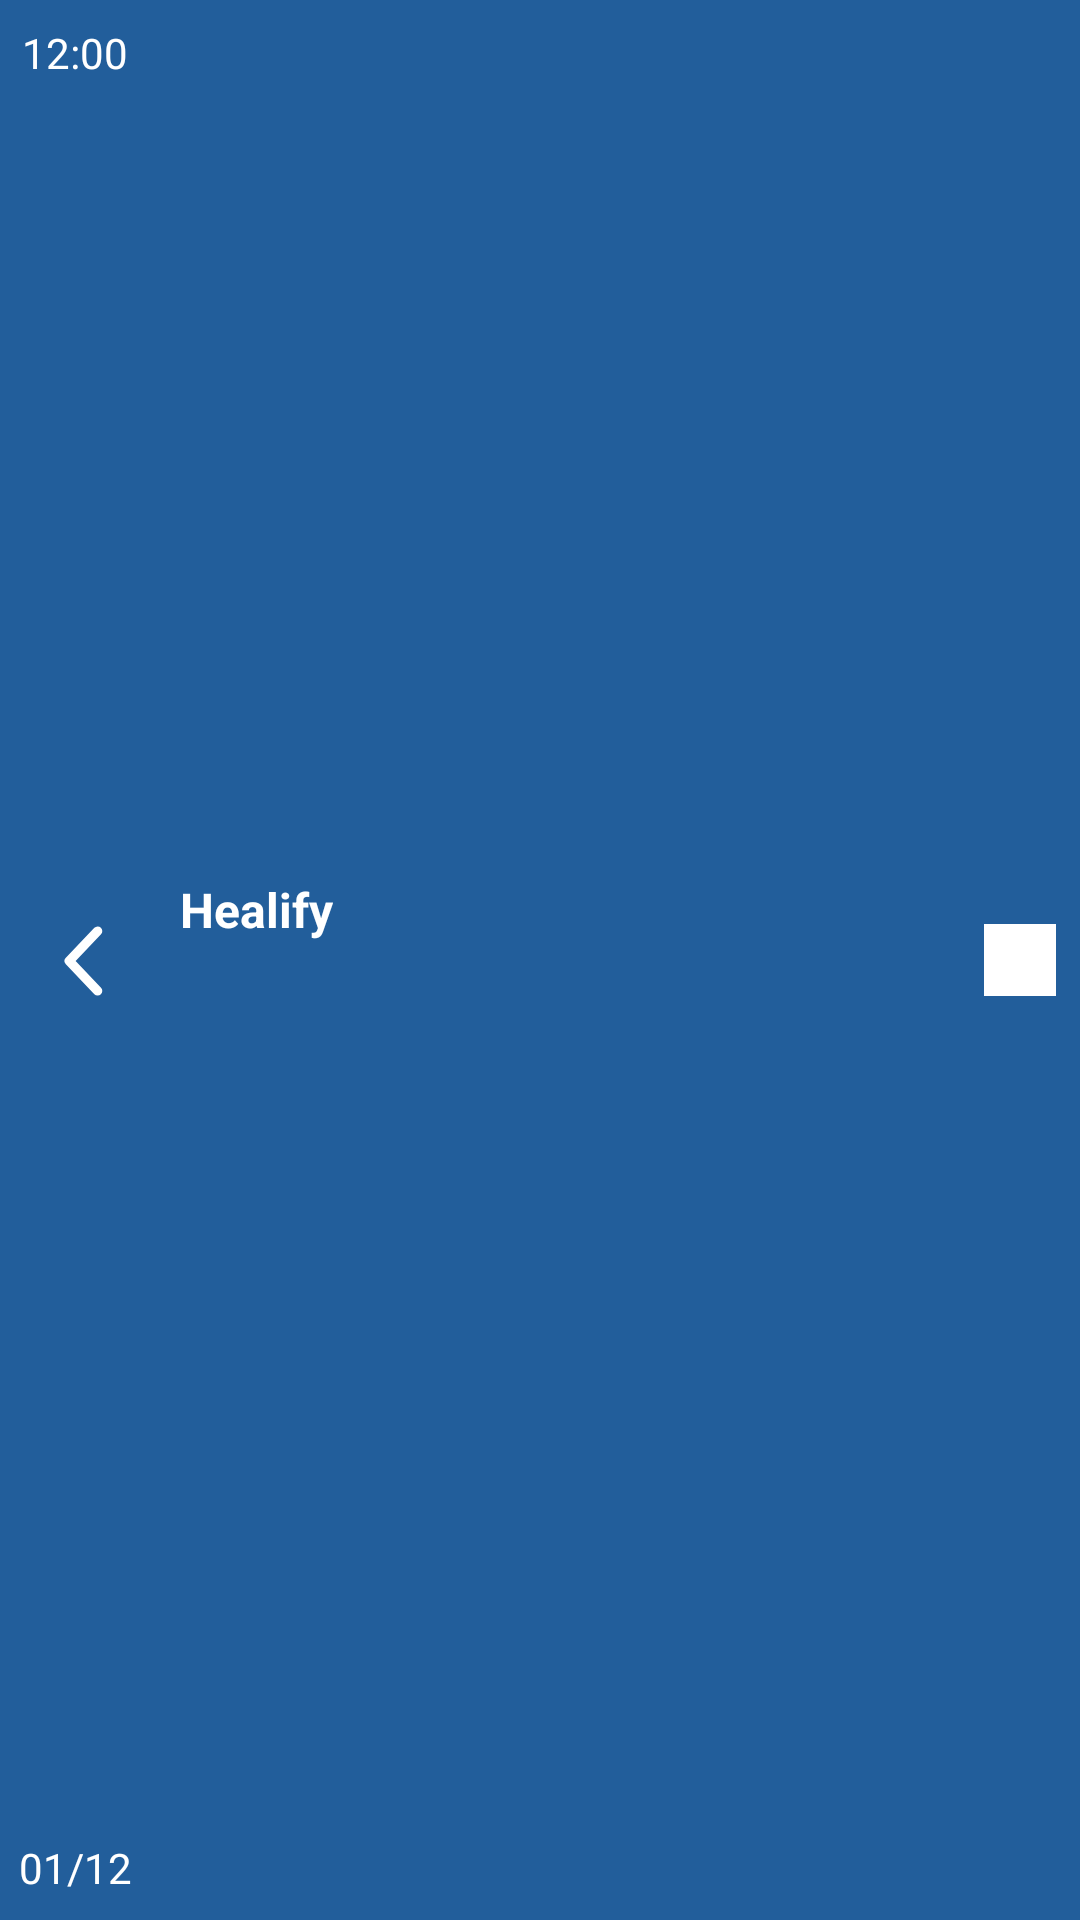

Where icons sit on this 1080 × 1920 app screen, as (x1, y1, x2, y2):
back: (64, 926, 103, 996)
